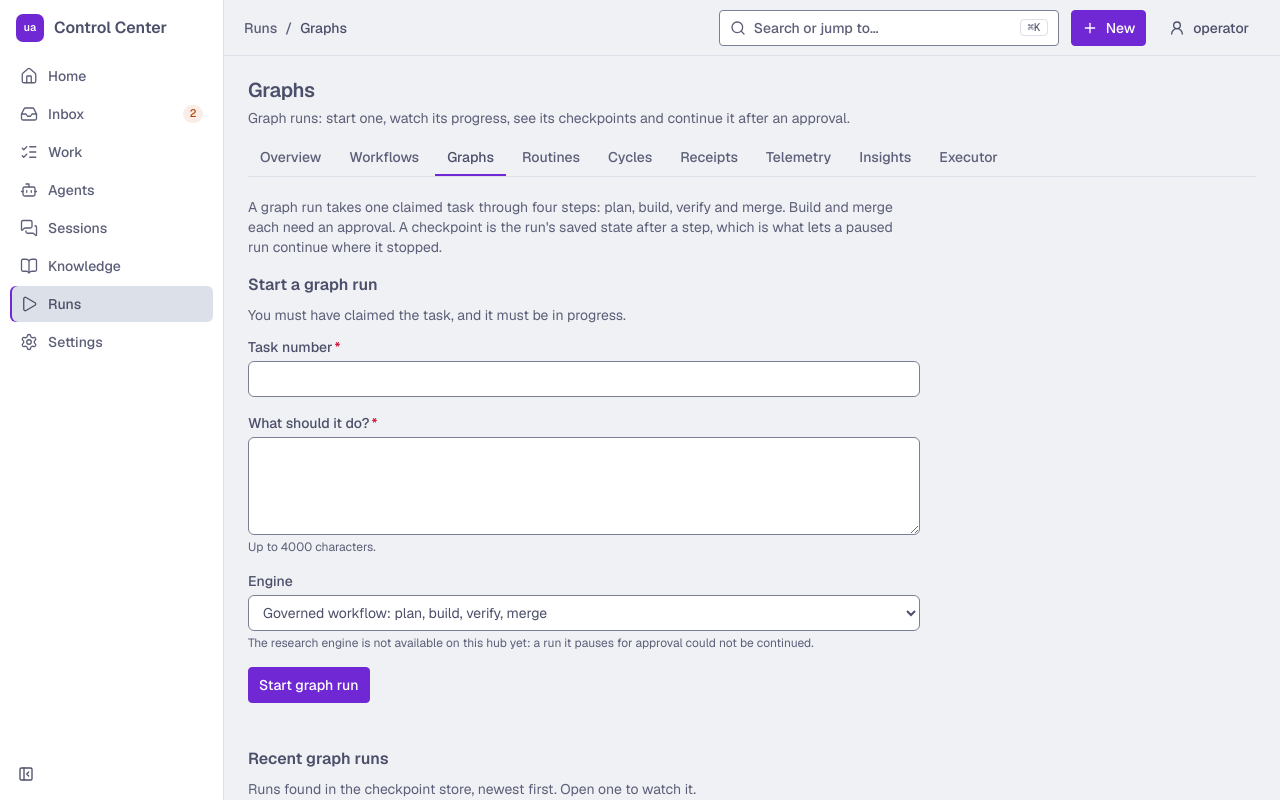
Scenario: /runs/graphs › a lost answer holds a new start until the person decides; matching sessions are candidates
Type "42" into the field labelled "Task number*" at [584, 379], box [248,361,920,397]
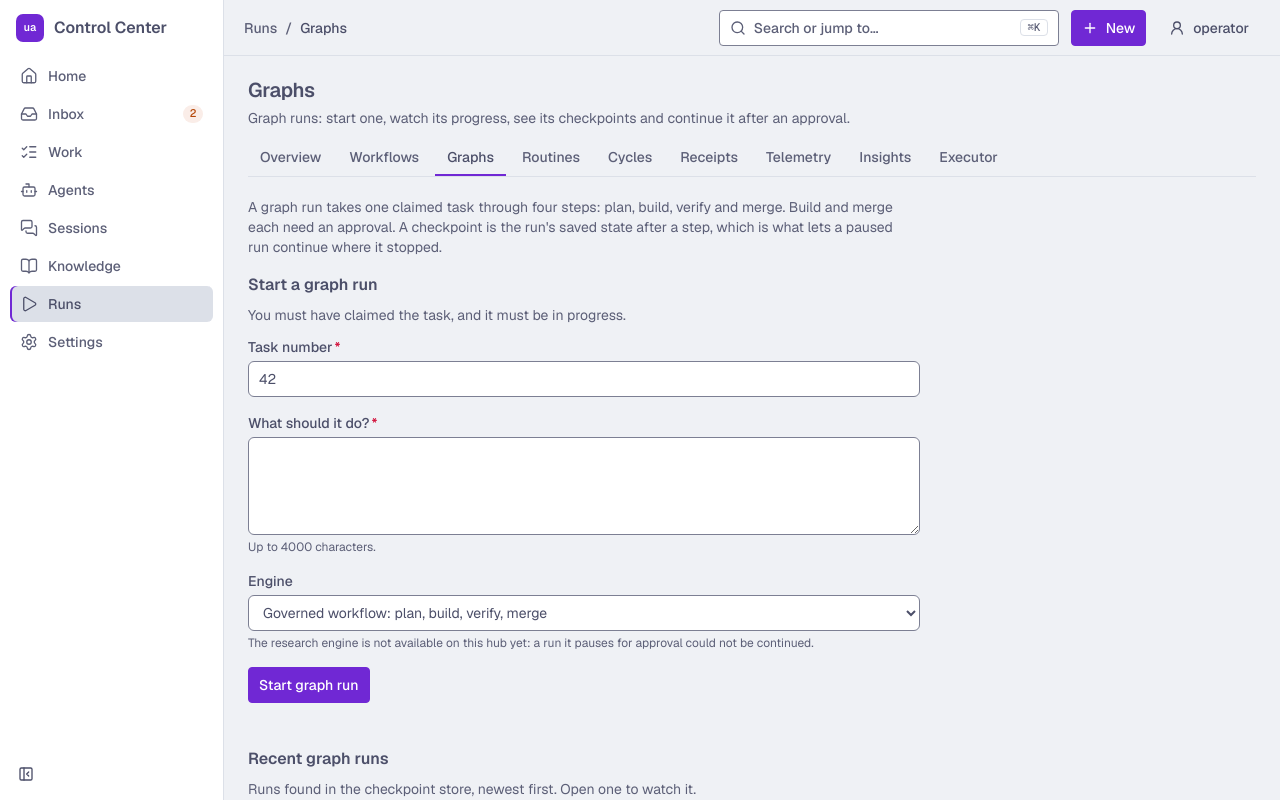
Type "Fix the login form" into the text box labelled "What should it do?*" at [584, 486], box [248,437,920,535]
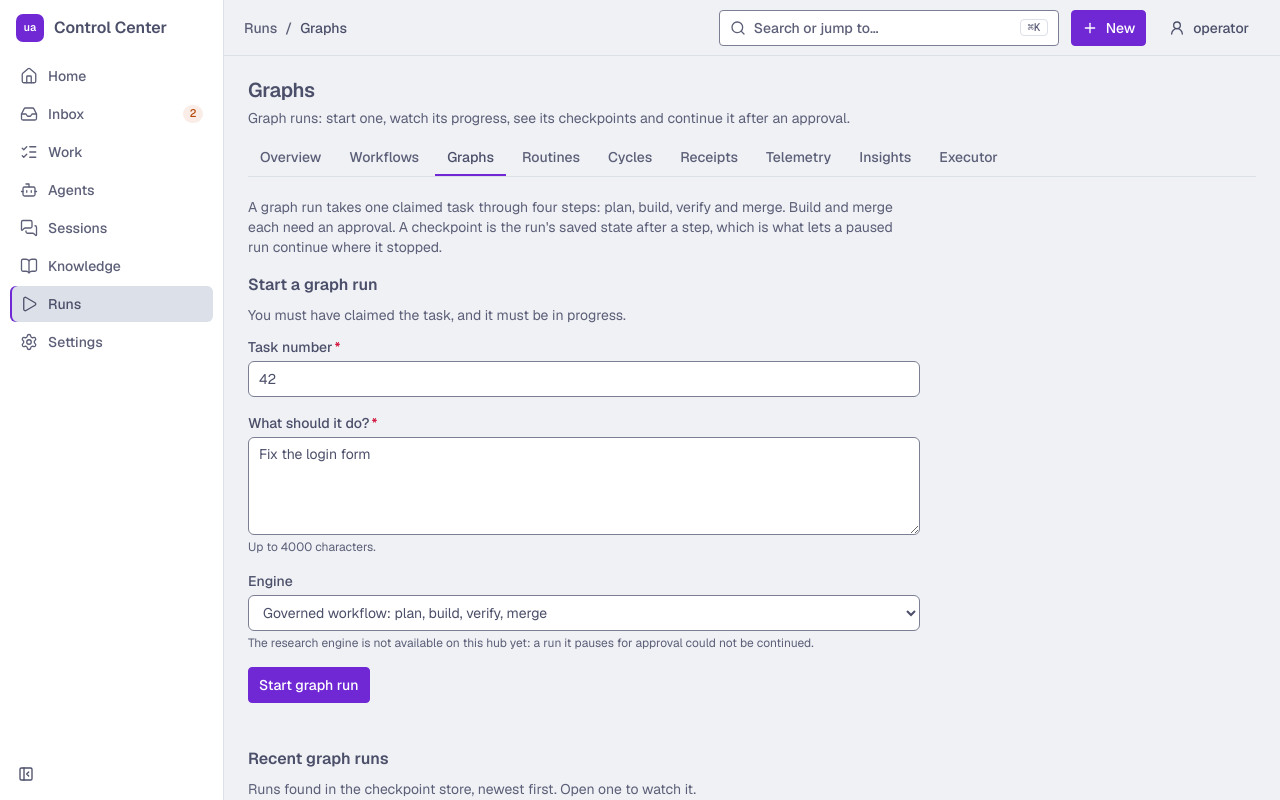
Click the button "Start graph run" at [309, 685], box [248,667,370,703]
(page scrolled)
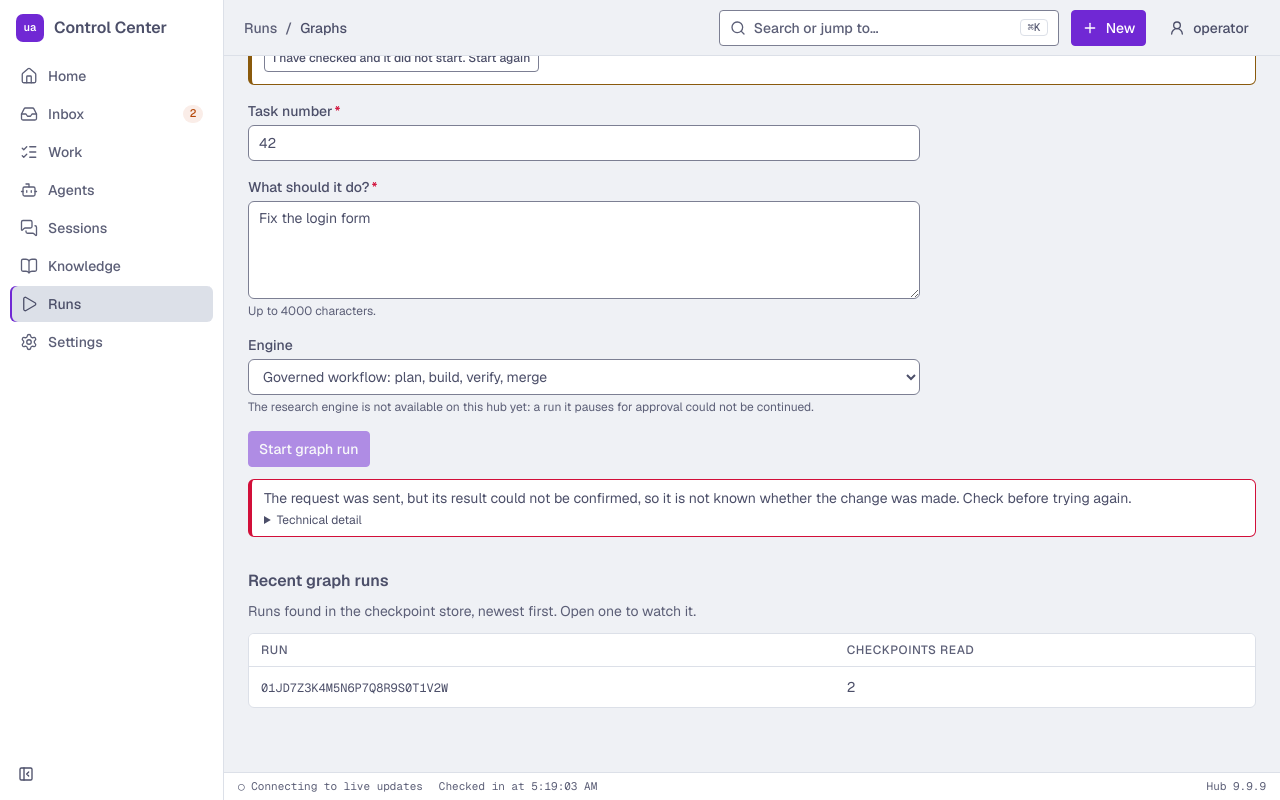
Expected: the button "Start graph run" is disabled, [248,431,370,467]
